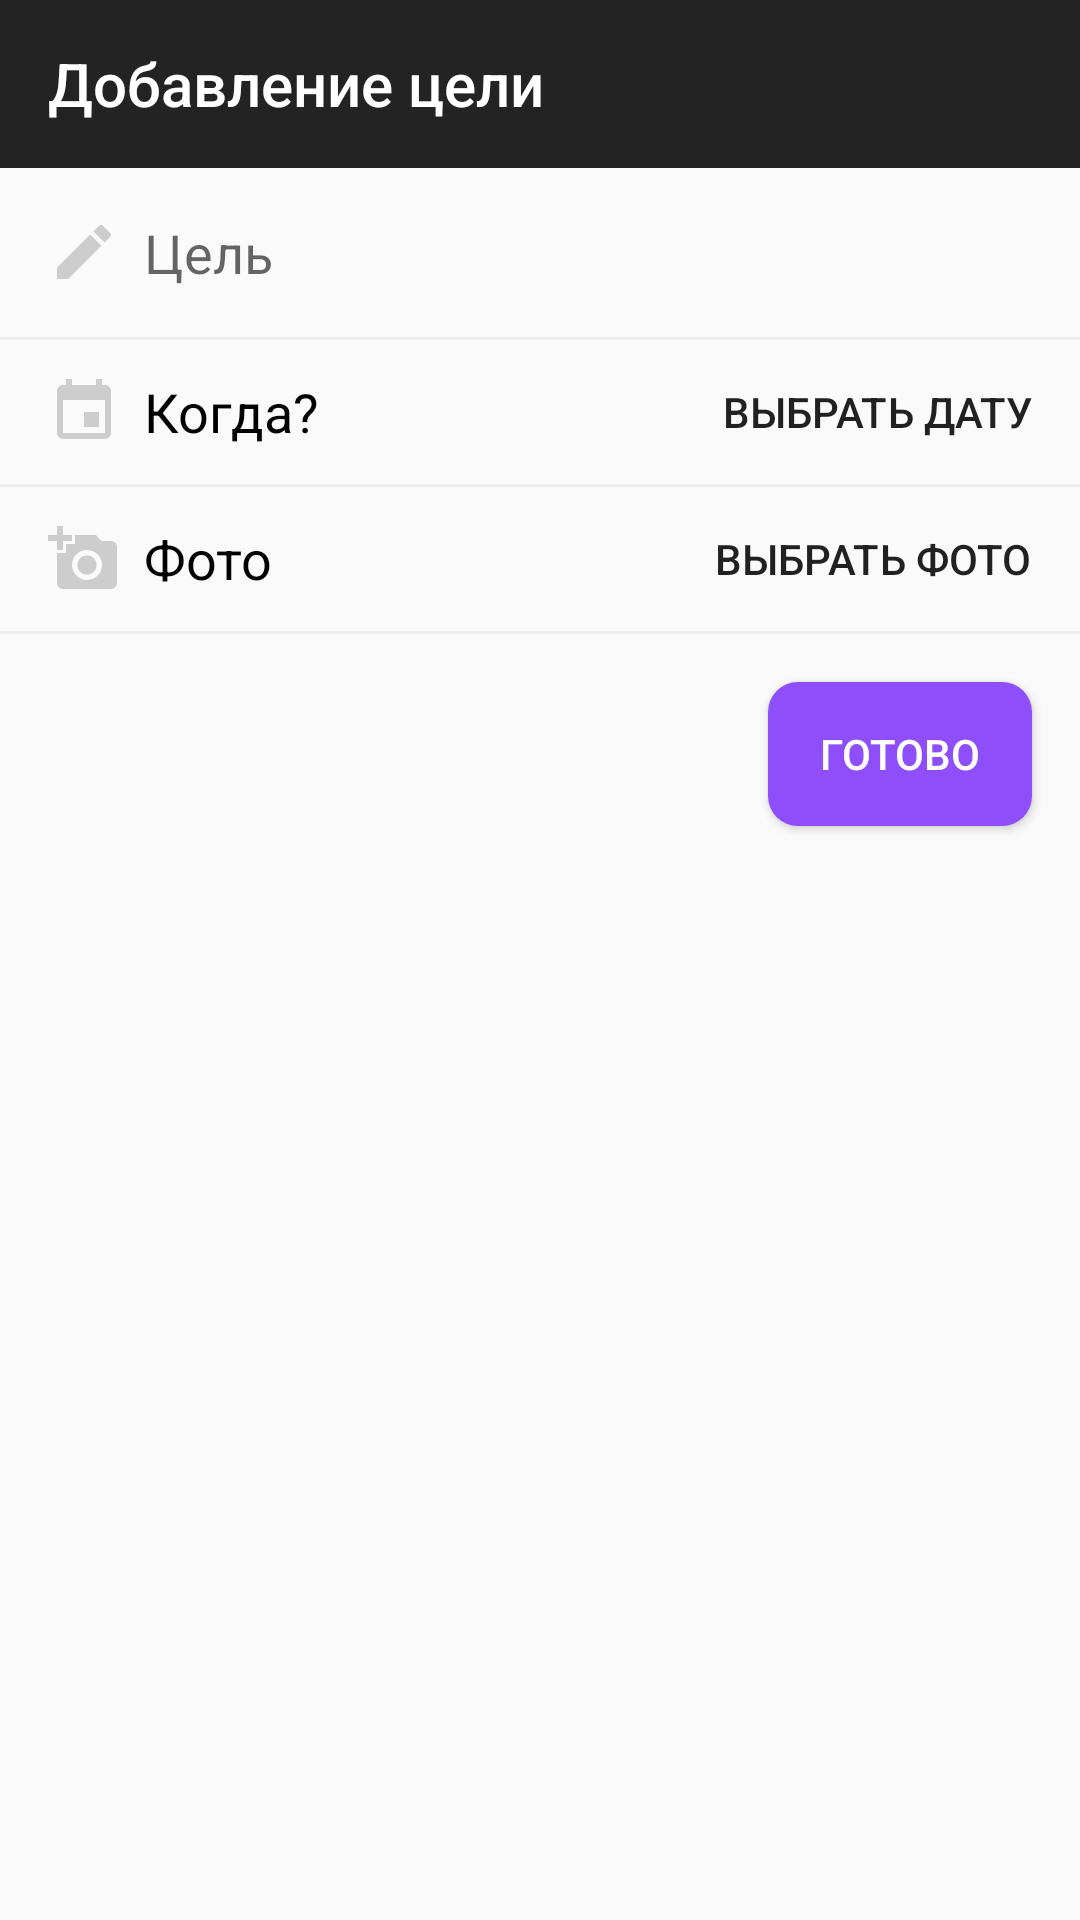

Locate icon controls on the screen. Image size 1080 × 1920, boxes as BBox(x1, y1, x2, y2).
edit: BBox(57, 225, 111, 279)
event: BBox(57, 379, 111, 439)
photo: BBox(48, 526, 117, 589)
